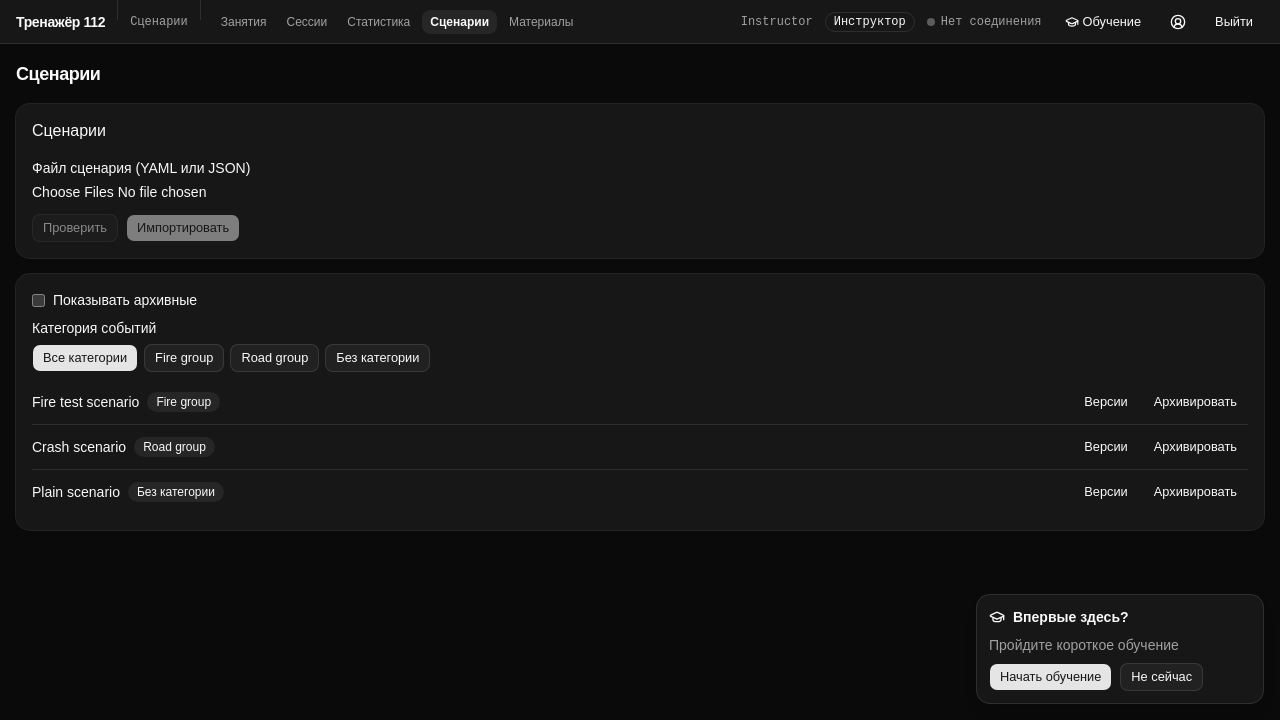
Test: ScenariosPage › filters the scenario list by event category
Check: the text "Crash scenario" is shown, box x1=32 y1=437 x2=126 y2=457
Click the button "Road group" at coordinates (275, 358), box x1=230 y1=344 x2=319 y2=372
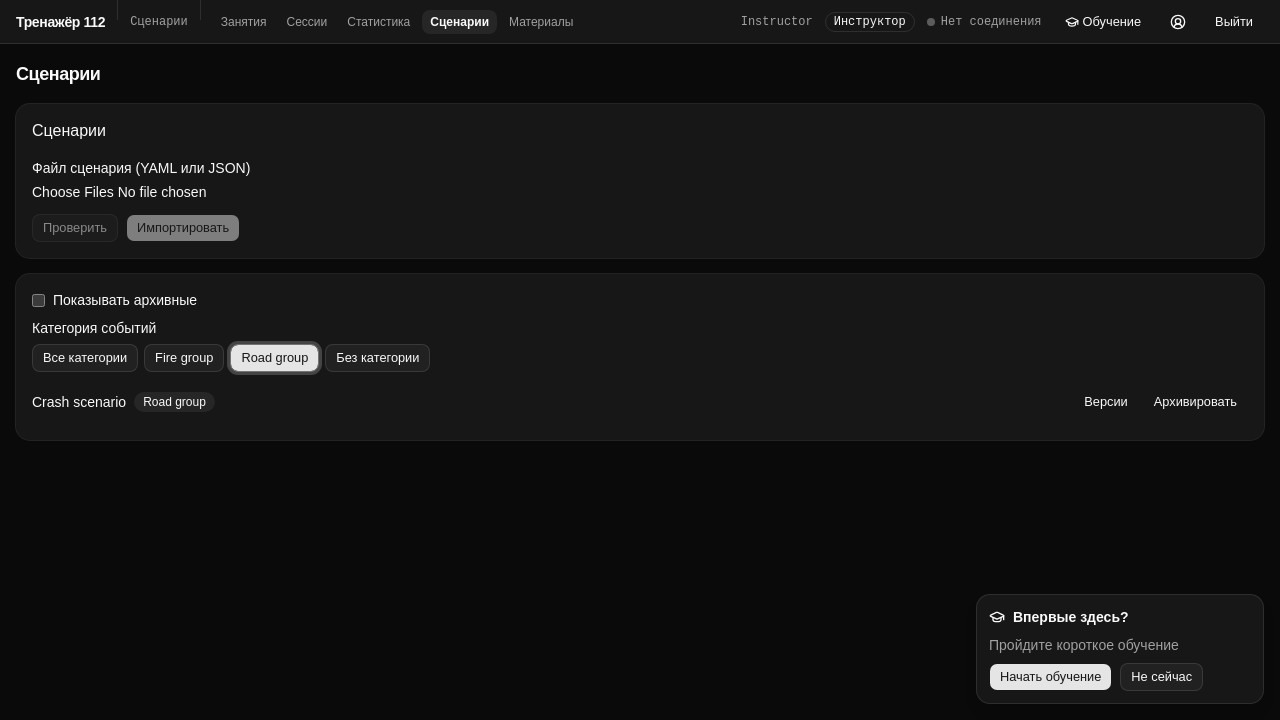
Check: the text "Crash scenario" is shown, box x1=32 y1=392 x2=126 y2=412
Check: the text "Fire test scenario" is gone
Click the button "Fire group" at coordinates (184, 358), box x1=144 y1=344 x2=224 y2=372
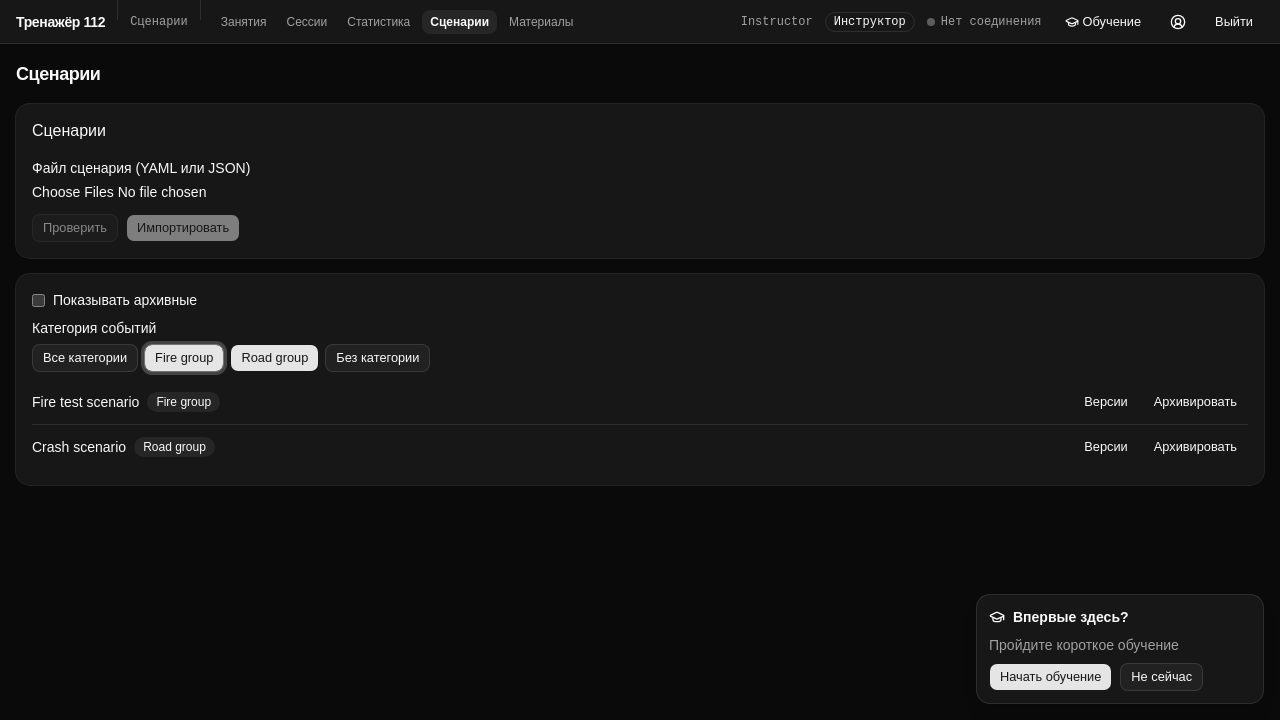
Check: the text "Plain scenario" is not shown
Check: the text "Fire test scenario" is shown, box x1=32 y1=392 x2=139 y2=412
Click the button "Все категории" at coordinates (85, 358), box x1=32 y1=344 x2=138 y2=372
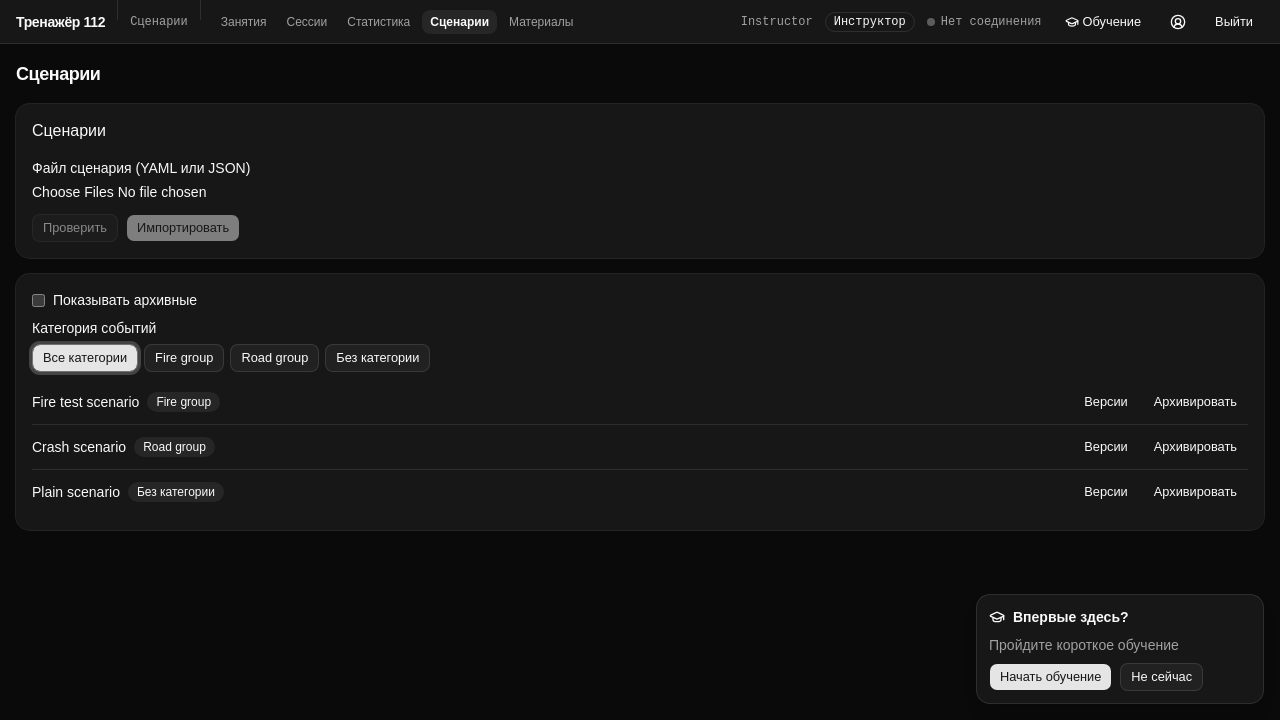
Check: the text "Plain scenario" is shown, box x1=32 y1=482 x2=120 y2=502
